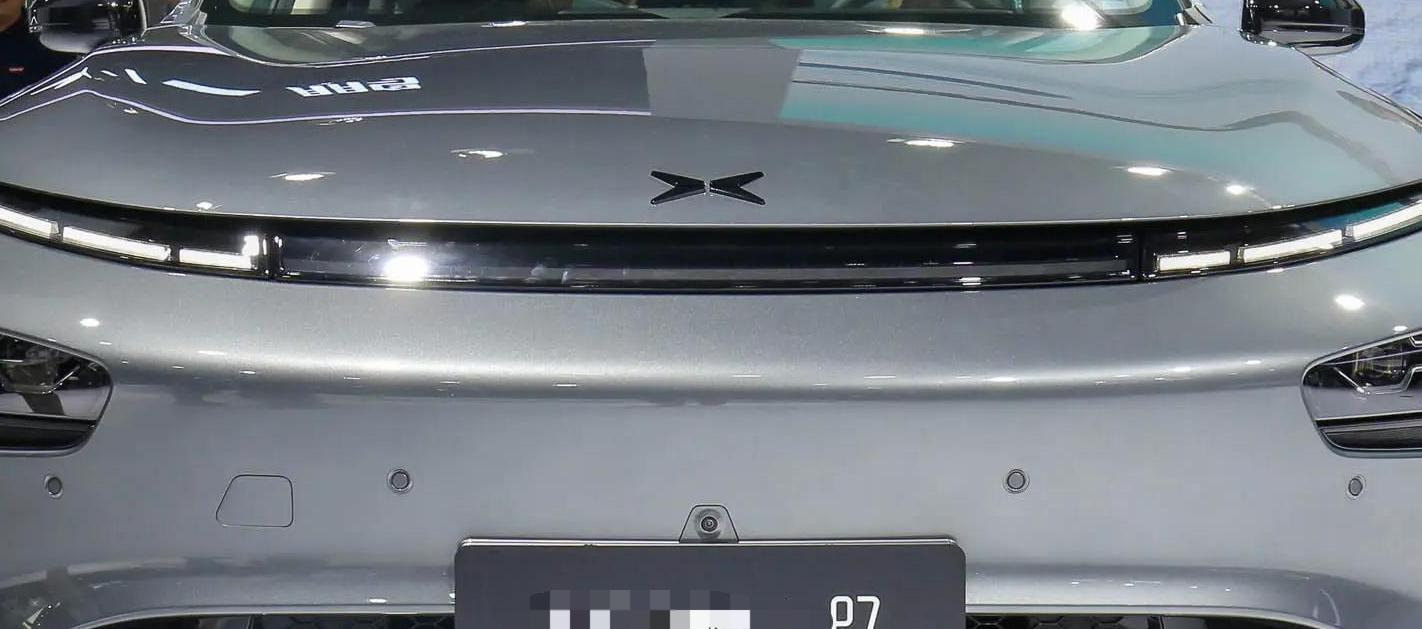XPeng Motors: (649, 170, 766, 206)
